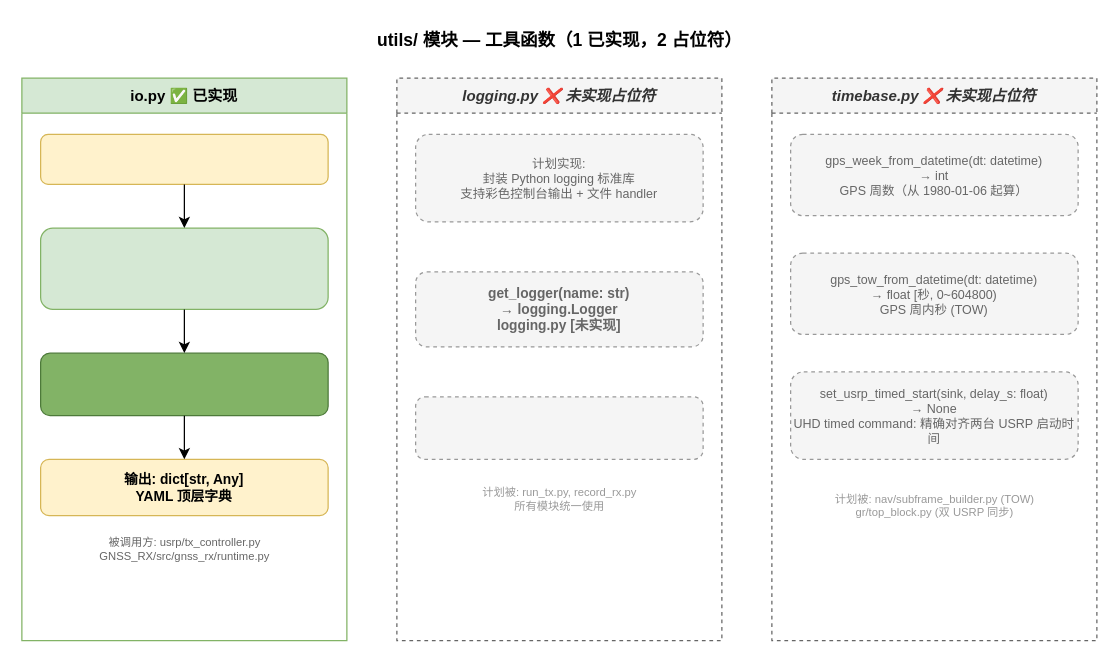
The diagram is 1119 pixels wide and 663 high, and some of its shapes have lost their labels. The shapes that lost their labels are listed below. From the top down, each one's centre as x and y in pixels, then its label:
At (183,158): "输入: path: str | Path".
At (183,268): "yaml.safe_load(f) 验证顶层类型为 dict 空文件返回 {}".
At (183,384): "load_yaml_file(path) io.py".
At (558,427): "输出: logging.Logger 实例 控制台彩色输出 + 文件持久化".
